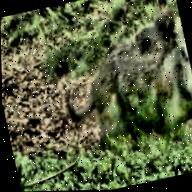boar: (38, 0, 192, 167)
